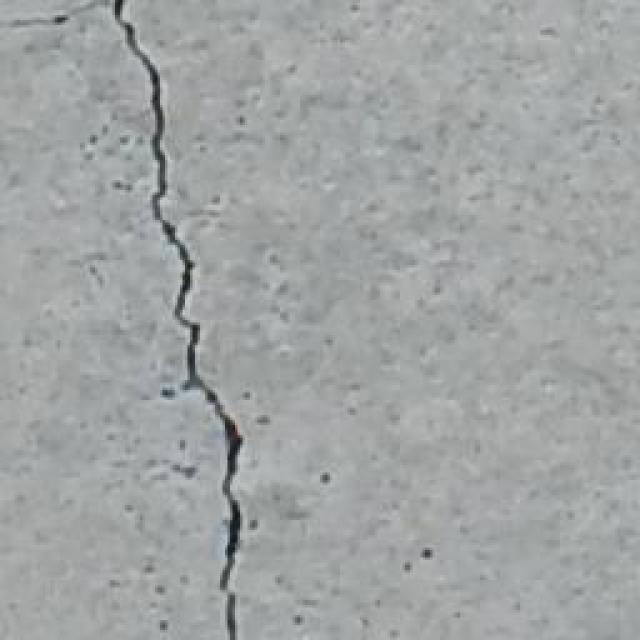concrete-crack: (112, 0, 245, 640)
